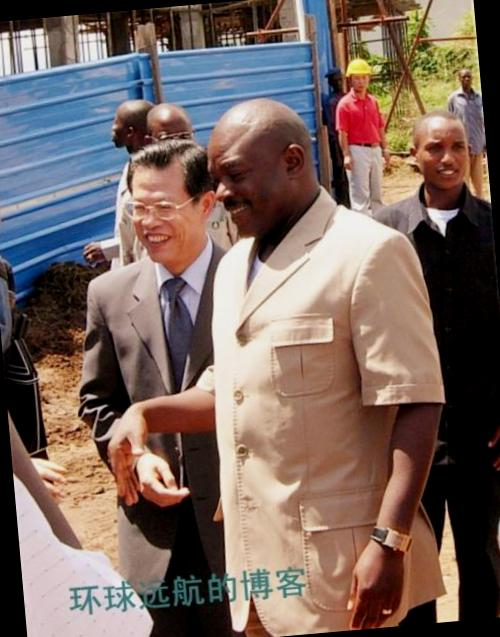no_helmet: (200, 84, 332, 240), (119, 117, 217, 265), (402, 102, 476, 204), (144, 99, 197, 161), (104, 90, 157, 150), (452, 62, 479, 94)
